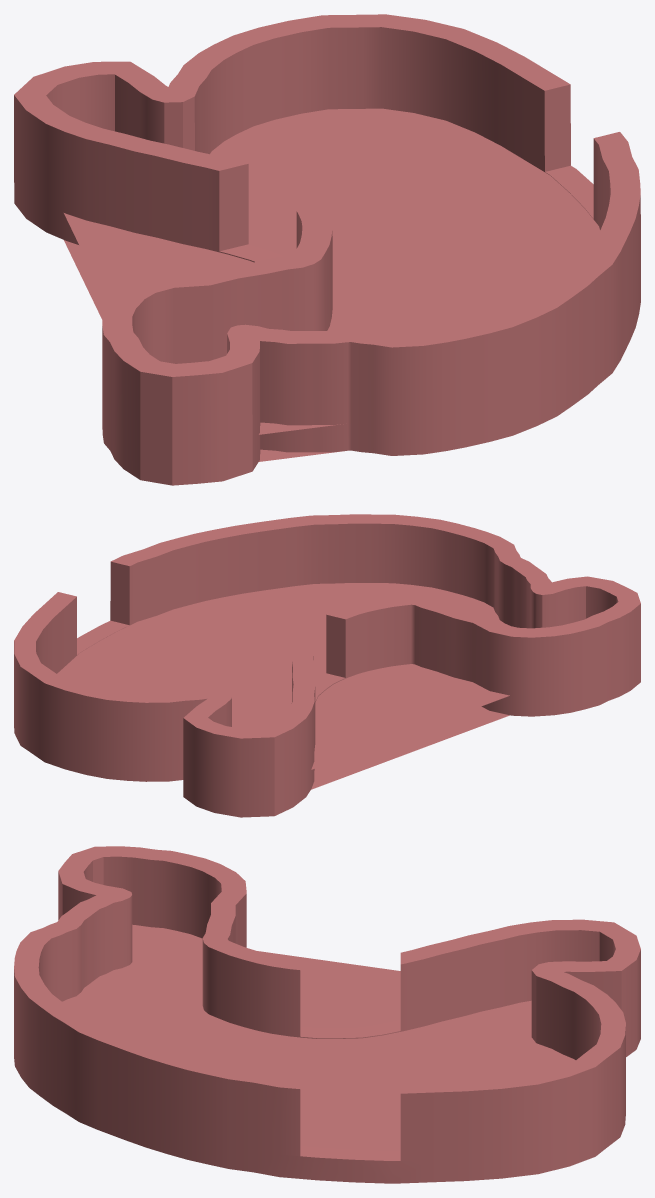
The model's file is Organ_Stomach_Rectangular_Cuts.fbx.
The picture shows the model from 3 angles, top to bottom: view 1: azimuth 30°, elevation 25°; view 2: azimuth 150°, elevation 25°; view 3: azimuth 270°, elevation 25°; orthographic projection. The views are drawn at different scales.
Parts seen in each view (by area): view 1: _12_04_Extruded_Color_Stomach_No_Cuts:polySurface4; view 2: _12_04_Extruded_Color_Stomach_No_Cuts:polySurface4; view 3: _12_04_Extruded_Color_Stomach_No_Cuts:polySurface4.
Part boxes in pixels (box(x1,y1,x2,y2)): _12_04_Extruded_Color_Stomach_No_Cuts:polySurface4: box(14, 14, 640, 485); _12_04_Extruded_Color_Stomach_No_Cuts:polySurface4: box(14, 514, 640, 817); _12_04_Extruded_Color_Stomach_No_Cuts:polySurface4: box(14, 846, 640, 1183).
Size of the model in its own units: 5.19 by 0.8812 by 5.52.
